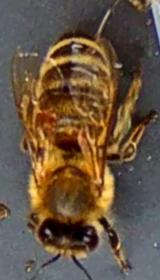varroa_mite: (32, 105, 57, 136)
